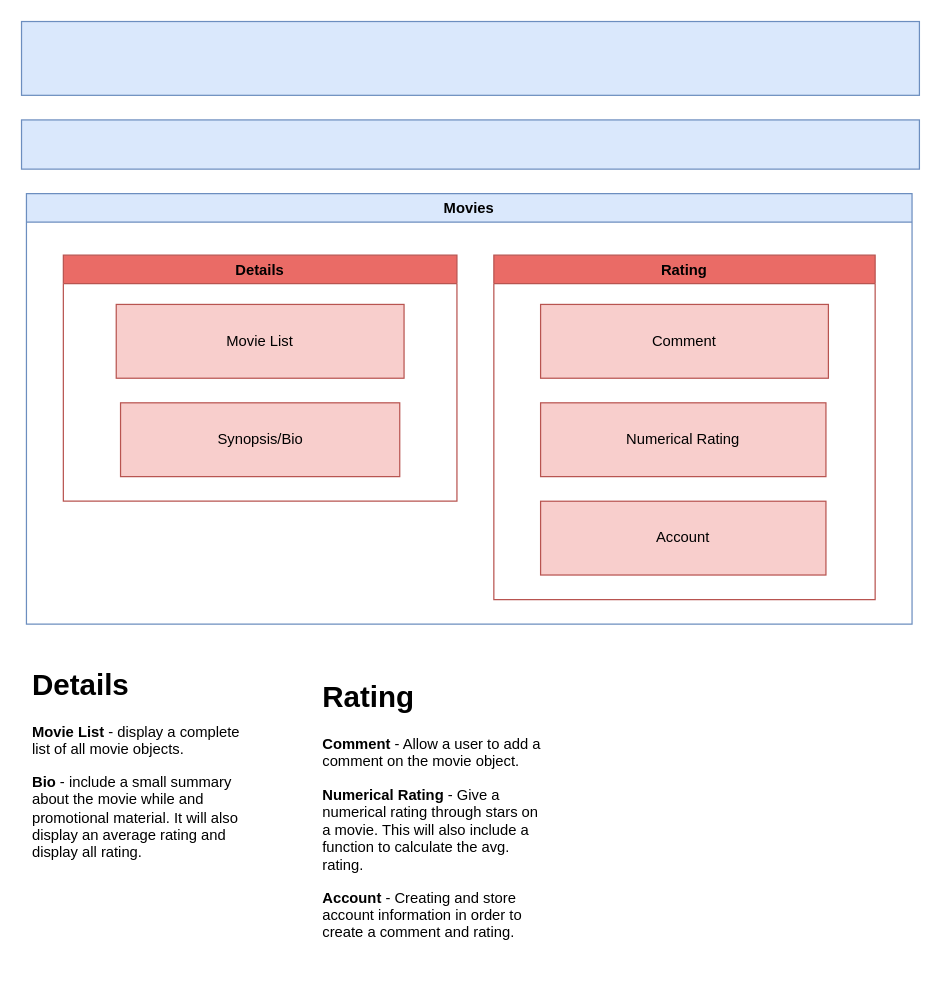
Image size: 941x990. Some labels were removed from this diagram. The centre of each missing label's shape, as x and y in pixels:
"Header" belongs at (x=469, y=144).
"Root" belongs at (x=469, y=57).
